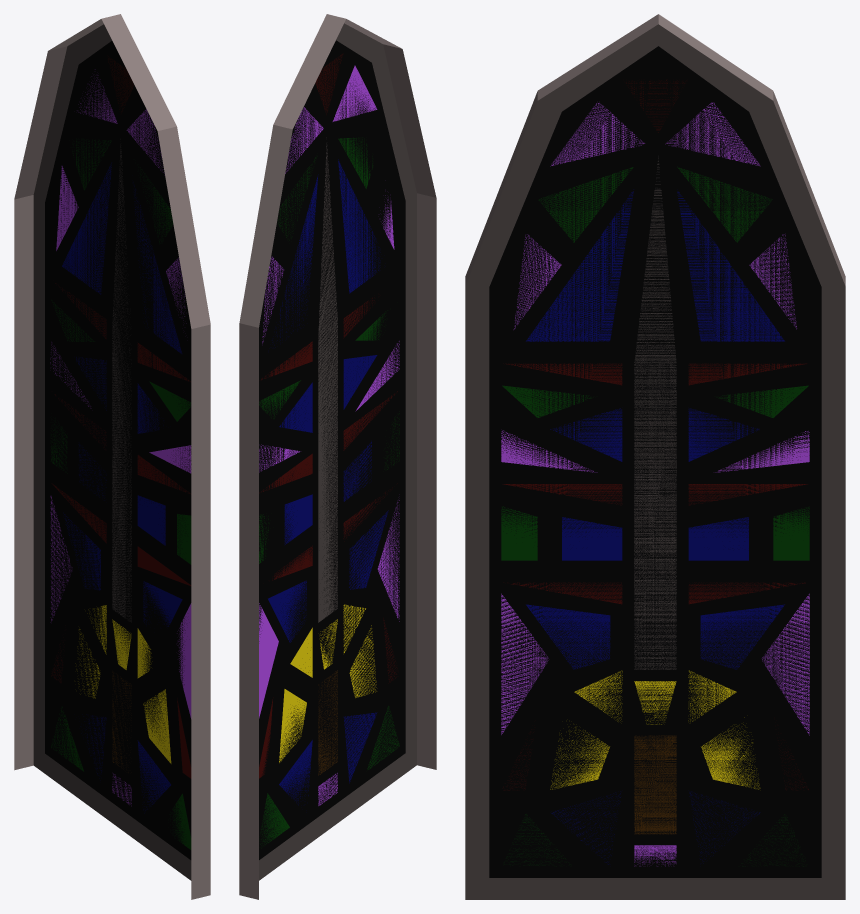
Rendered from model_loc_1846_q.obj.
The picture shows the model from 3 angles, left to right: view 1: azimuth 30°, elevation 25°; view 2: azimuth 150°, elevation 25°; view 3: azimuth 270°, elevation 25°; orthographic projection. The views are drawn at different scales.
Parts seen in each view (by area): view 1: 2050; view 2: 2050; view 3: 2050.
Boxes of the visible parts, x1,y1,x2,y2 form: 2050: (14, 14, 210, 899); 2050: (239, 14, 436, 899); 2050: (465, 14, 845, 899).
Bounding box in the file's own units: 4 × 160 × 63.
